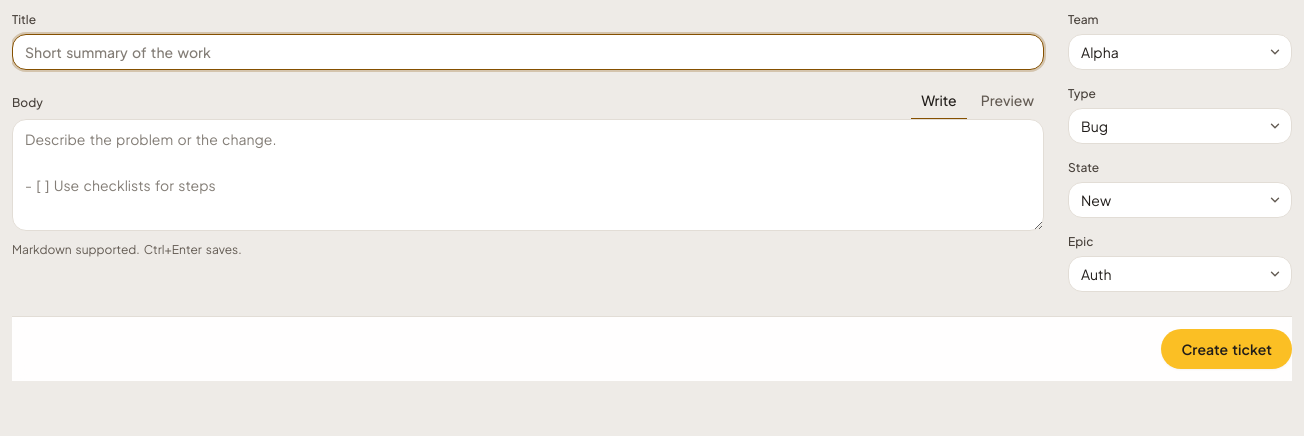
Test: TicketForm › maps a server field error to its field
expect the dropdown labelled "Epic" is shown: met, box x1=1068 y1=256 x2=1292 y2=292
Step 1. Type "T" into the field labelled "Title" → coordinates (528, 52), box x1=12 y1=34 x2=1044 y2=70
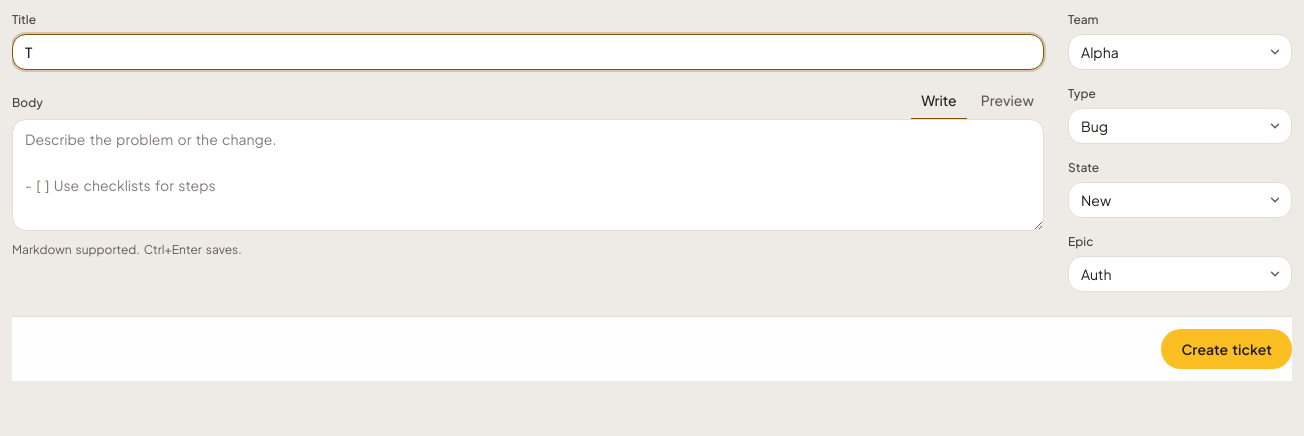
Step 2. Type "B" into the text box labelled "Body" → coordinates (528, 175), box x1=12 y1=119 x2=1044 y2=231
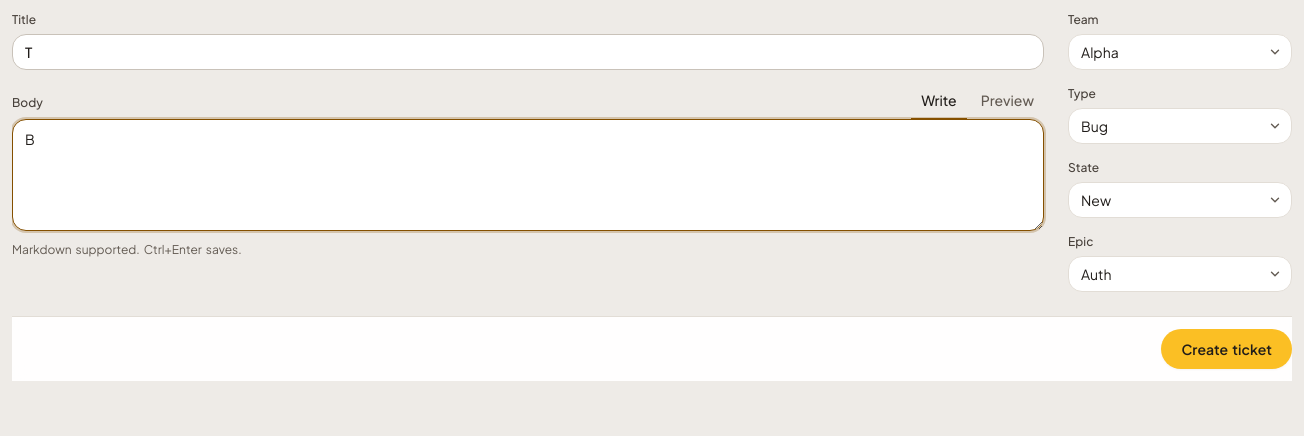
Step 3. Click the button "Create ticket" → coordinates (1227, 349), box x1=1162 y1=329 x2=1292 y2=369
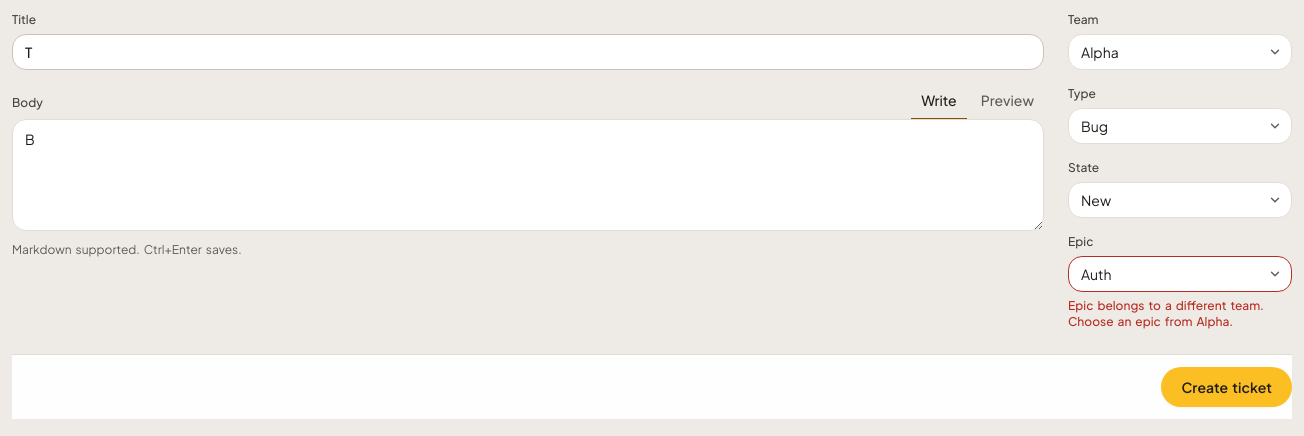
expect the text "Epic belongs to a different team. Choose an epic from Alpha." is shown: met, box x1=1068 y1=298 x2=1292 y2=330
